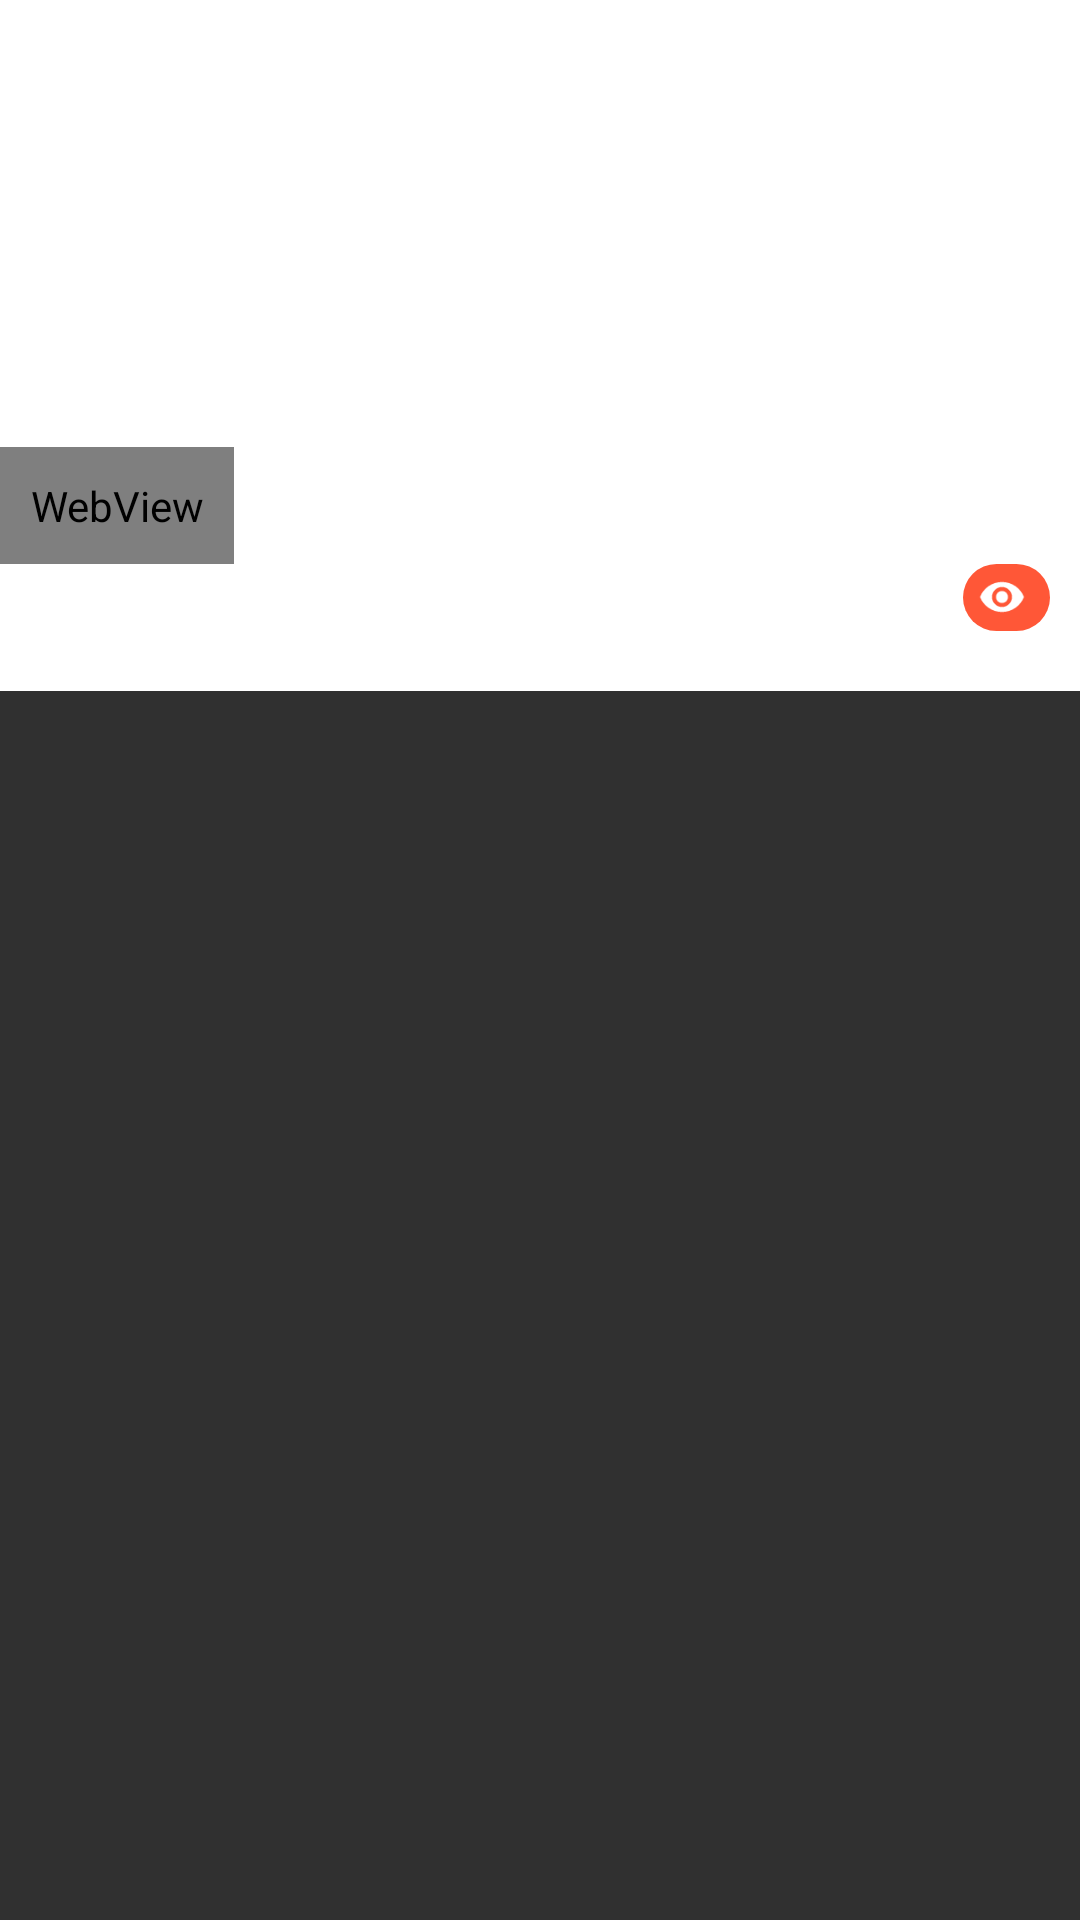

Where icons sit on this 1080x1920 app screen, as (x1,y1,x2,y2):
body eye: (980,581,1024,613)
